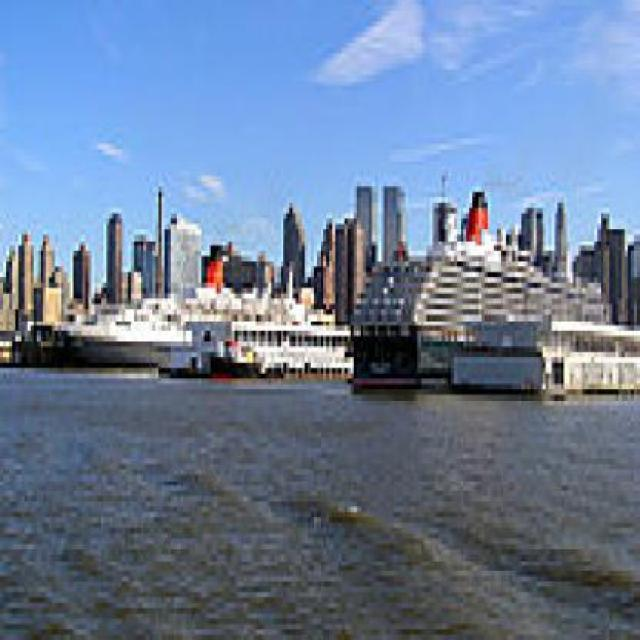cruise: (342, 178, 617, 407)
